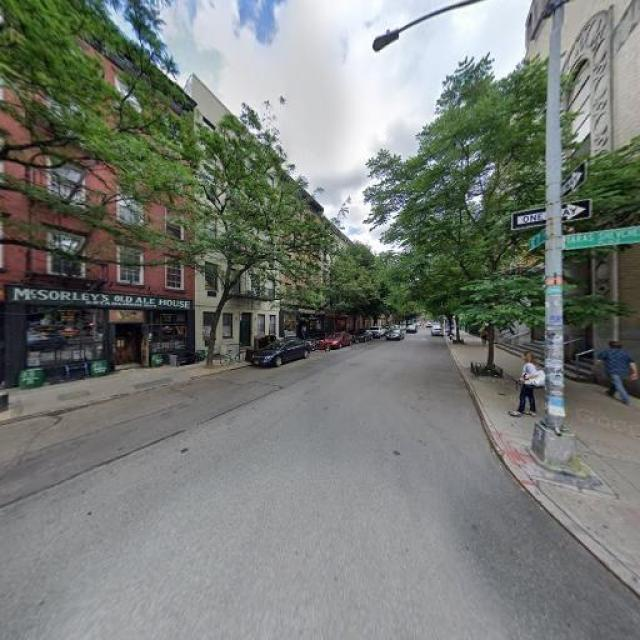Building: (1, 1, 190, 390), (550, 1, 640, 398), (195, 84, 280, 360)
